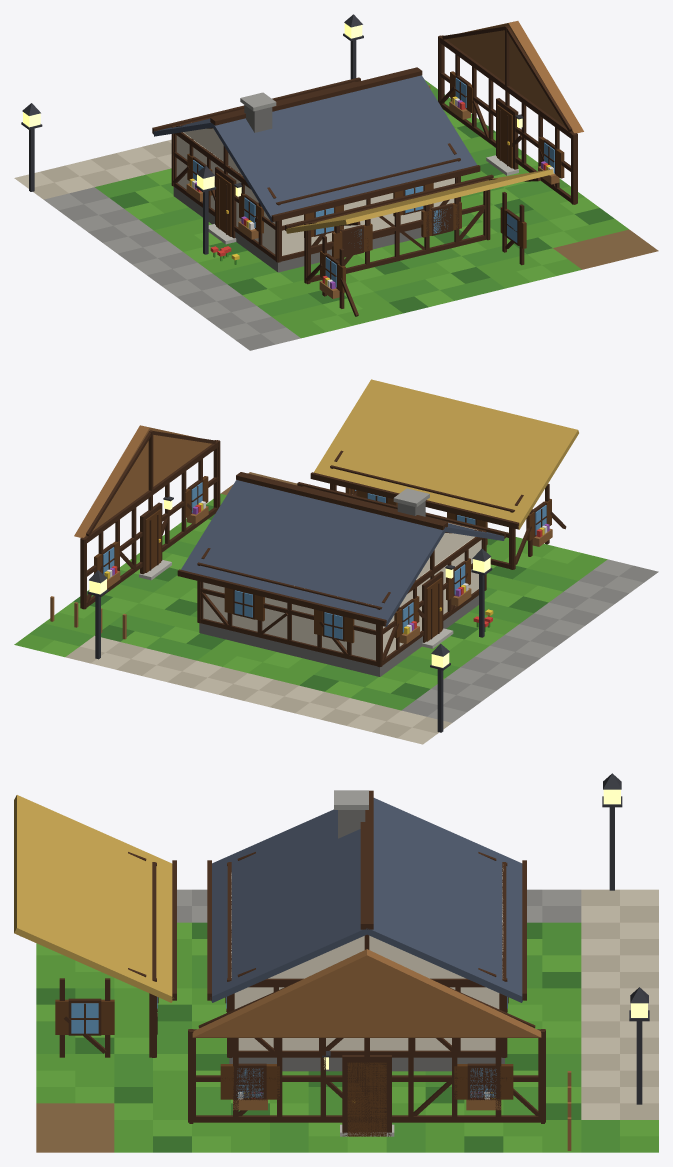
File: chunk_2_9.glb
3 views of the same model, one above another, from view 1: azimuth 30°, elevation 25°; view 2: azimuth 150°, elevation 25°; view 3: azimuth 270°, elevation 25° (orthographic). The views are drawn at different scales.
Parts seen in each view (by area): view 1: chunk_2_9; view 2: chunk_2_9; view 3: chunk_2_9.
Boxes of the visible parts, x1,y1,x2,y2 form: chunk_2_9: [14, 14, 658, 350]; chunk_2_9: [14, 379, 658, 744]; chunk_2_9: [14, 773, 658, 1152].
Size of the model in its own units: 16.26 by 5.32 by 16.57.
